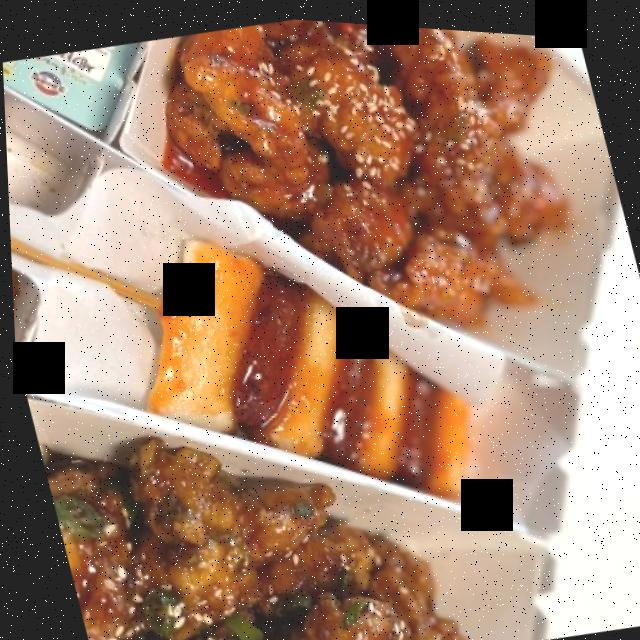Frango: (132, 7, 611, 382), (45, 419, 463, 640)
